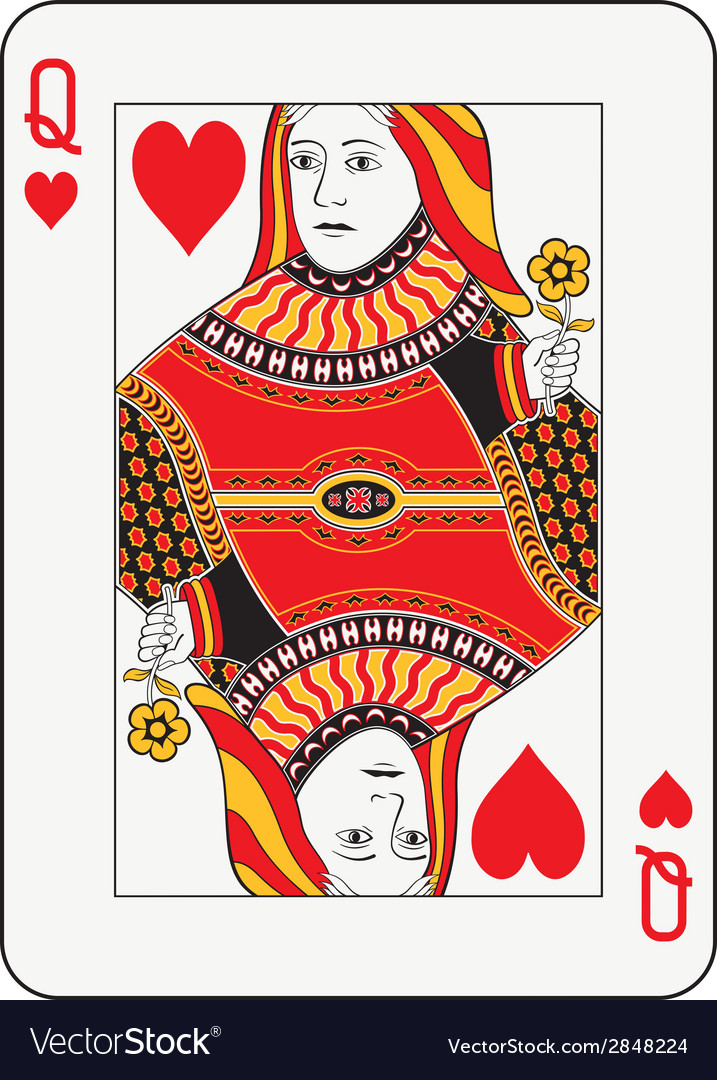queen of hearts: (11, 13, 713, 1002)
